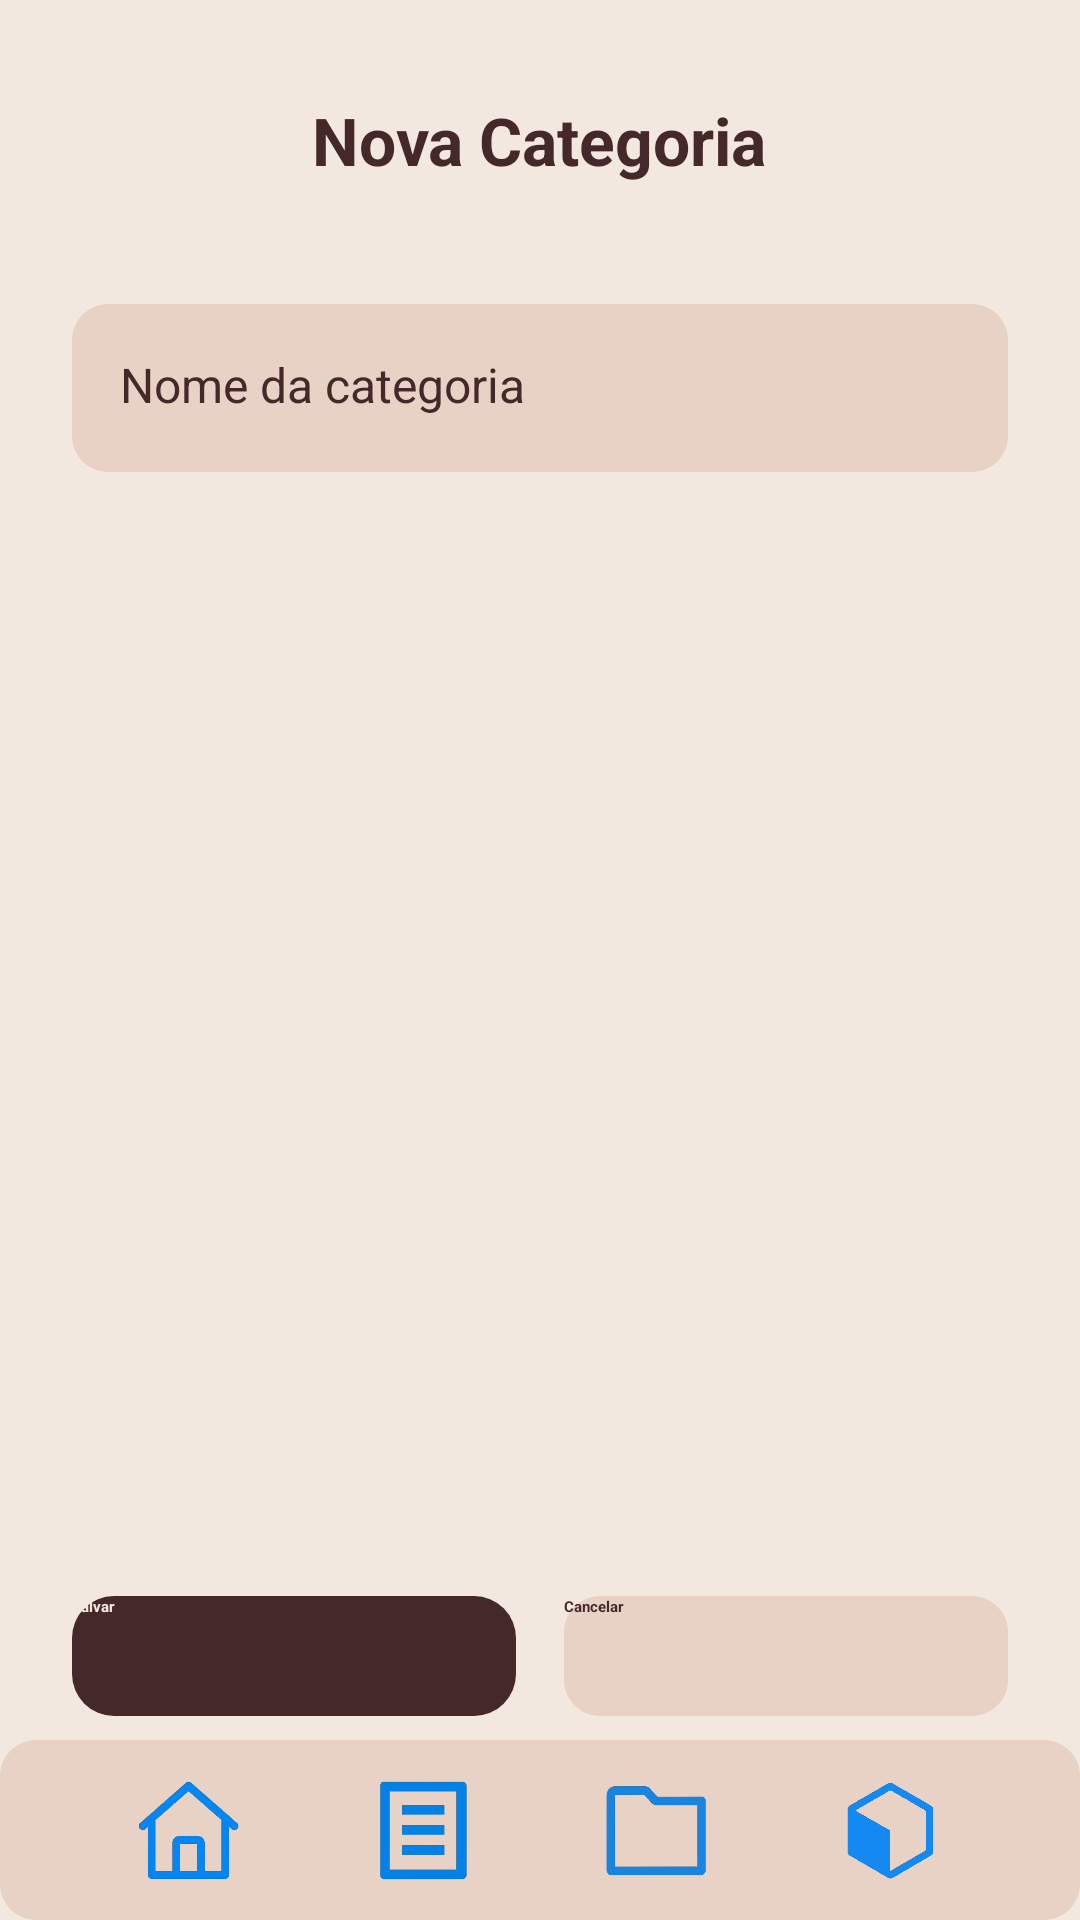

Locate icon controls on the screen. Image size 1080w x 1920h, boxes as (x1, y1, x2, y2).
caixa: (847, 1783, 933, 1879)
home: (139, 1782, 239, 1879)
lista: (380, 1781, 467, 1879)
pasta: (606, 1786, 706, 1875)
